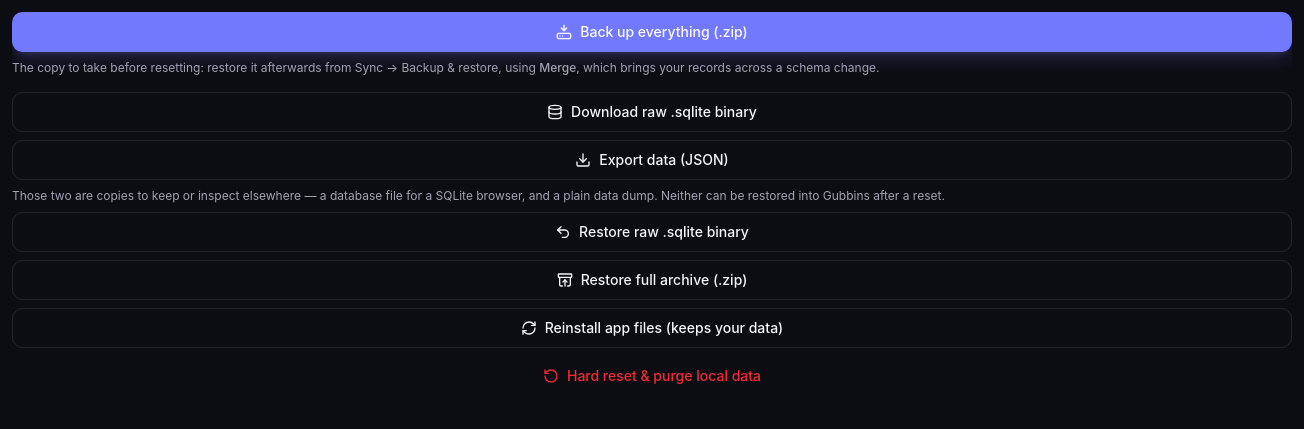
it: RescueActions › surfaces a failed download instead of only logging it
This screenshot has width=1304, height=429.
Click the button "Download raw .sqlite binary".
click(652, 112)  # box [12,92,1292,132]
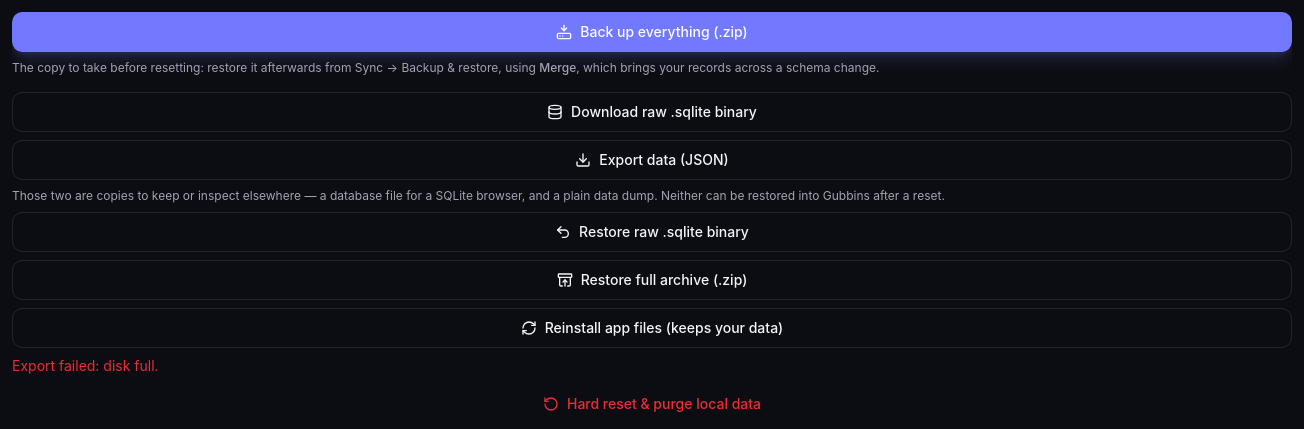
Expected: the message reads "Export failed: disk full.", [12,357,159,374]
